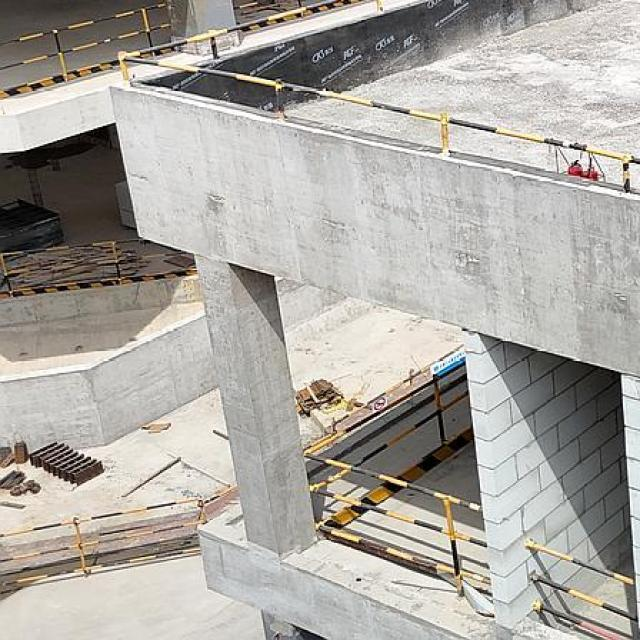edge_guardrail: (114, 0, 639, 194), (301, 359, 493, 596), (0, 1, 171, 87), (0, 237, 197, 299), (523, 538, 639, 640), (234, 0, 302, 10)
